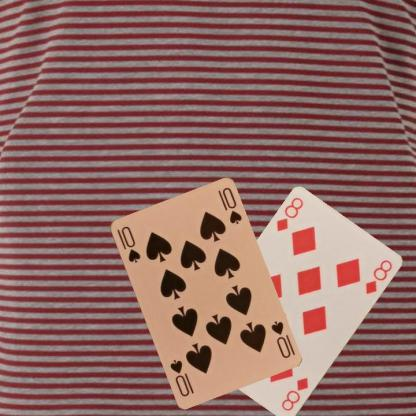10s: (114, 223, 141, 264), (267, 318, 292, 359)
8d: (278, 375, 310, 413), (274, 195, 304, 233)
